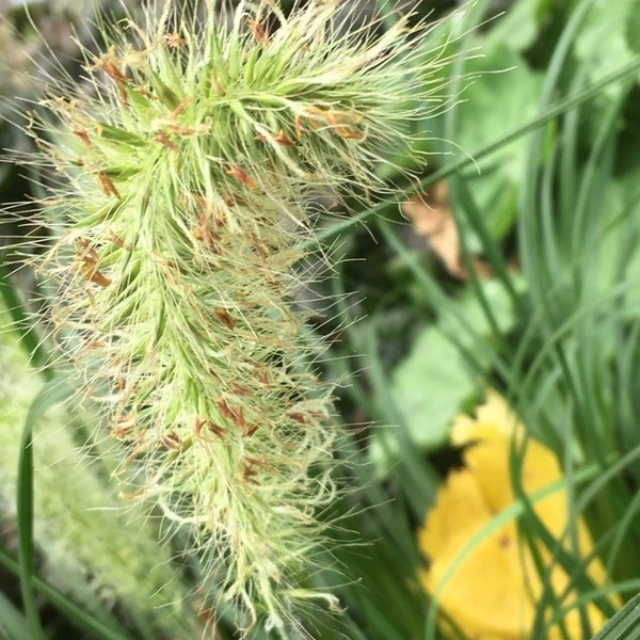obstacle: (71, 34, 395, 598), (394, 130, 630, 599)
